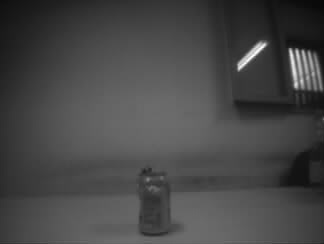Tin can: (135, 164, 172, 236)
